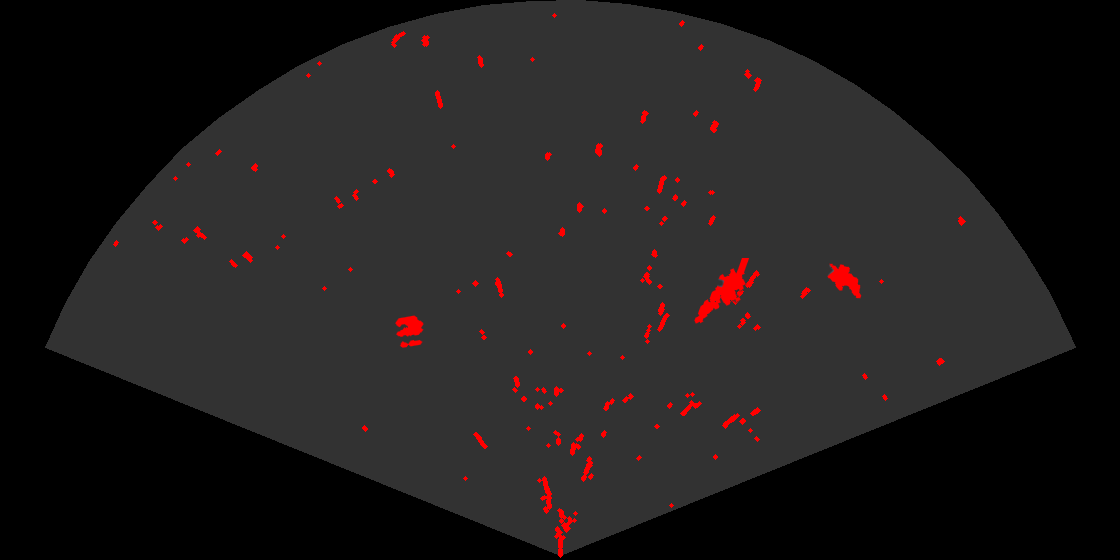AUV: (826, 262, 863, 300)
ball: (394, 314, 425, 349)
frogman: (693, 258, 751, 325)
